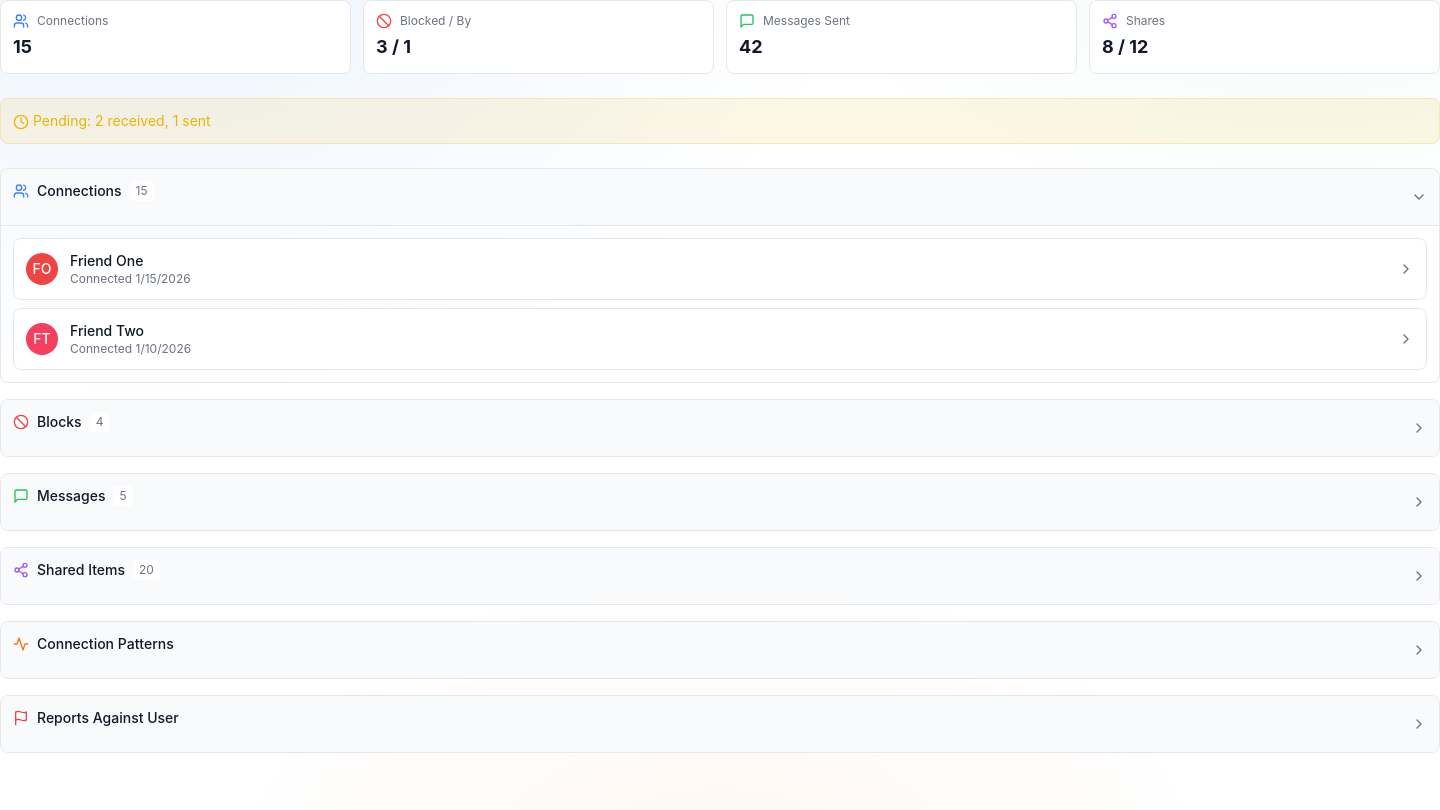
Test: UserSocialTab › messages section shows empty state when no conversations
This screenshot has width=1440, height=810.
Check: the text "42" is shown, box [739, 36, 762, 57]
# Expand messages section by clicking stat card
Click the button "Messages Sent 42".
click(807, 20)  # box [726, 0, 1077, 74]
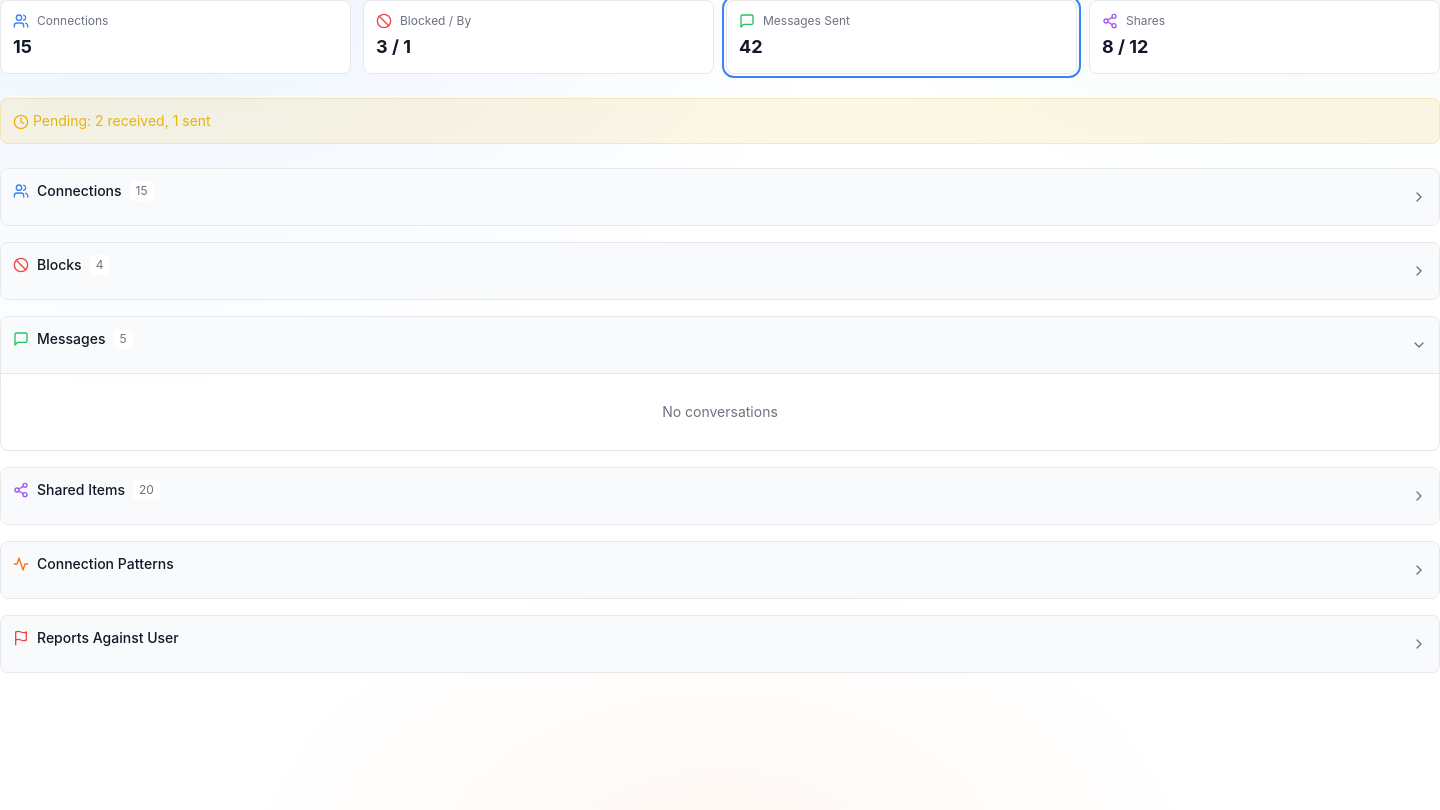
Check: the text "No conversations" is shown, box [662, 403, 778, 420]
